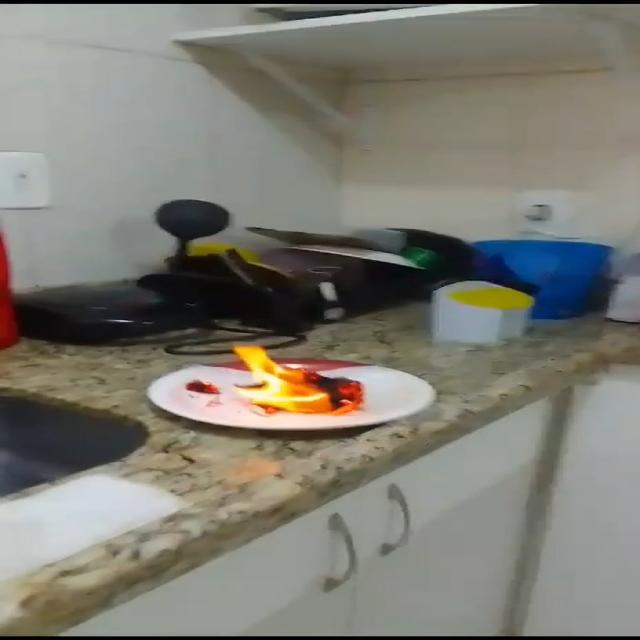fogo-ypXI: (230, 344, 366, 416)
